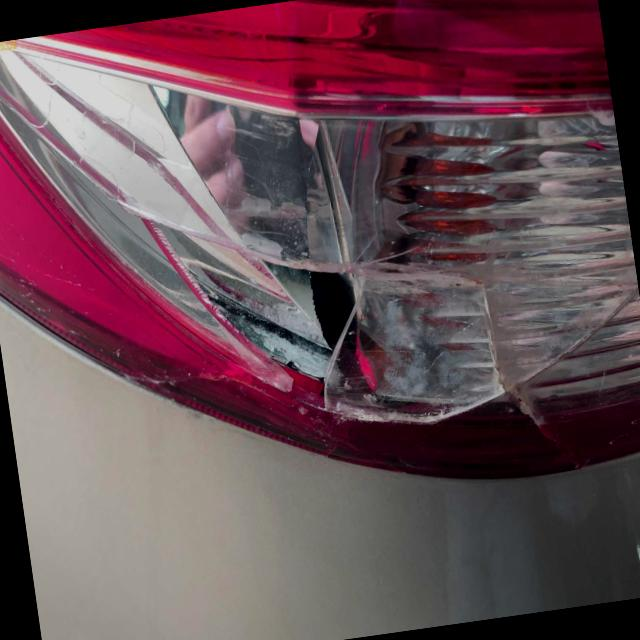Phare abime: (116, 157, 443, 384), (330, 297, 620, 425), (0, 45, 187, 176)
